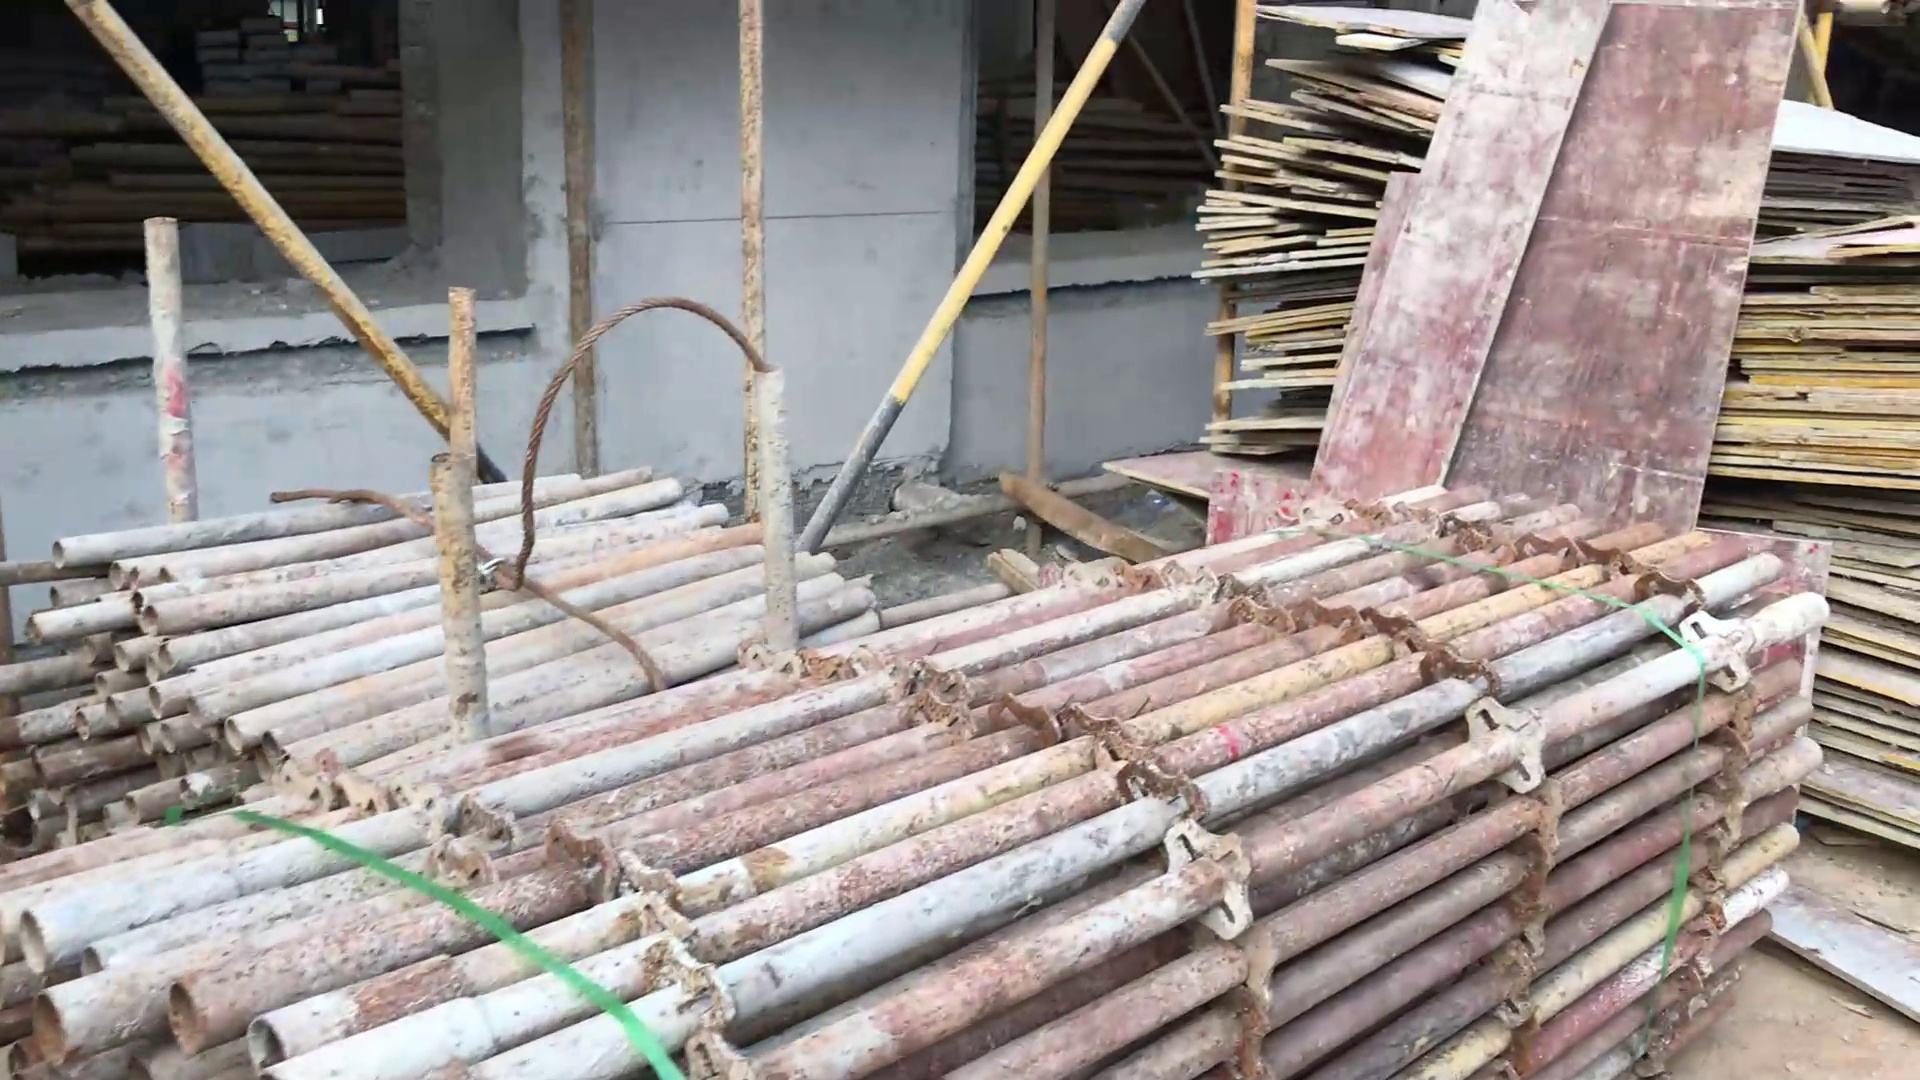board: (1196, 3, 1920, 864)
scaffold: (1, 502, 1846, 1079), (1, 452, 881, 862)
